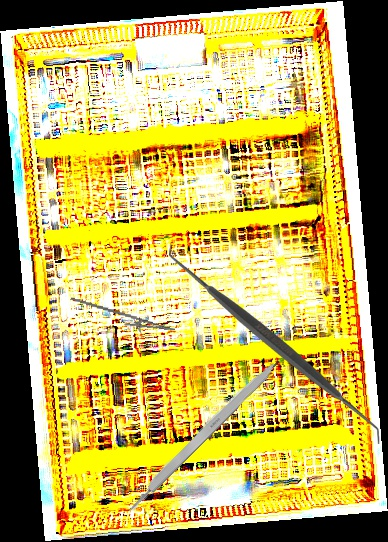Needle Holder: (66, 296, 178, 340)
Scalpel Handle: (123, 354, 283, 514)
Spatula Surgical: (169, 243, 381, 444)
